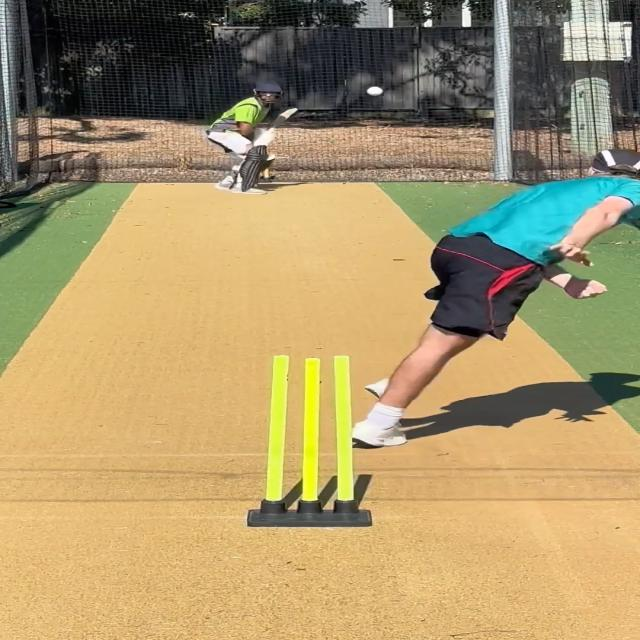ball: (364, 86, 384, 97)
stump: (246, 354, 370, 528)
